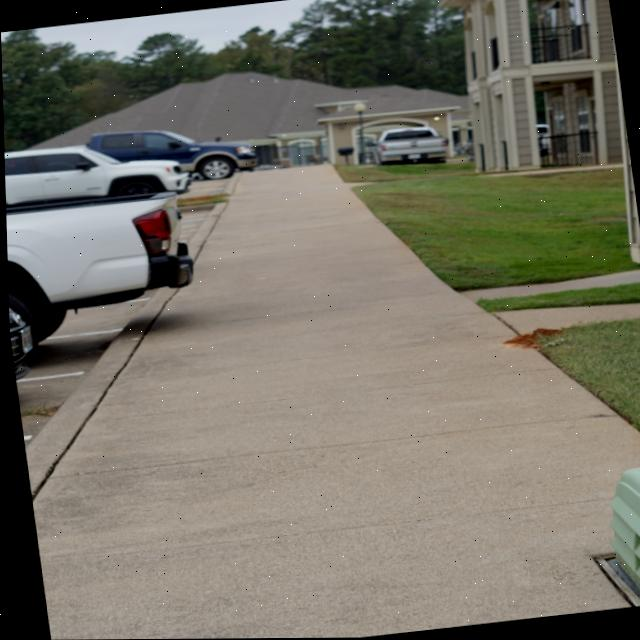Automobile: (4, 130, 257, 380), (371, 127, 447, 164)
Obstacle: (607, 466, 640, 593)
Road: (13, 292, 149, 448)
Sidewalk: (22, 165, 640, 640)
